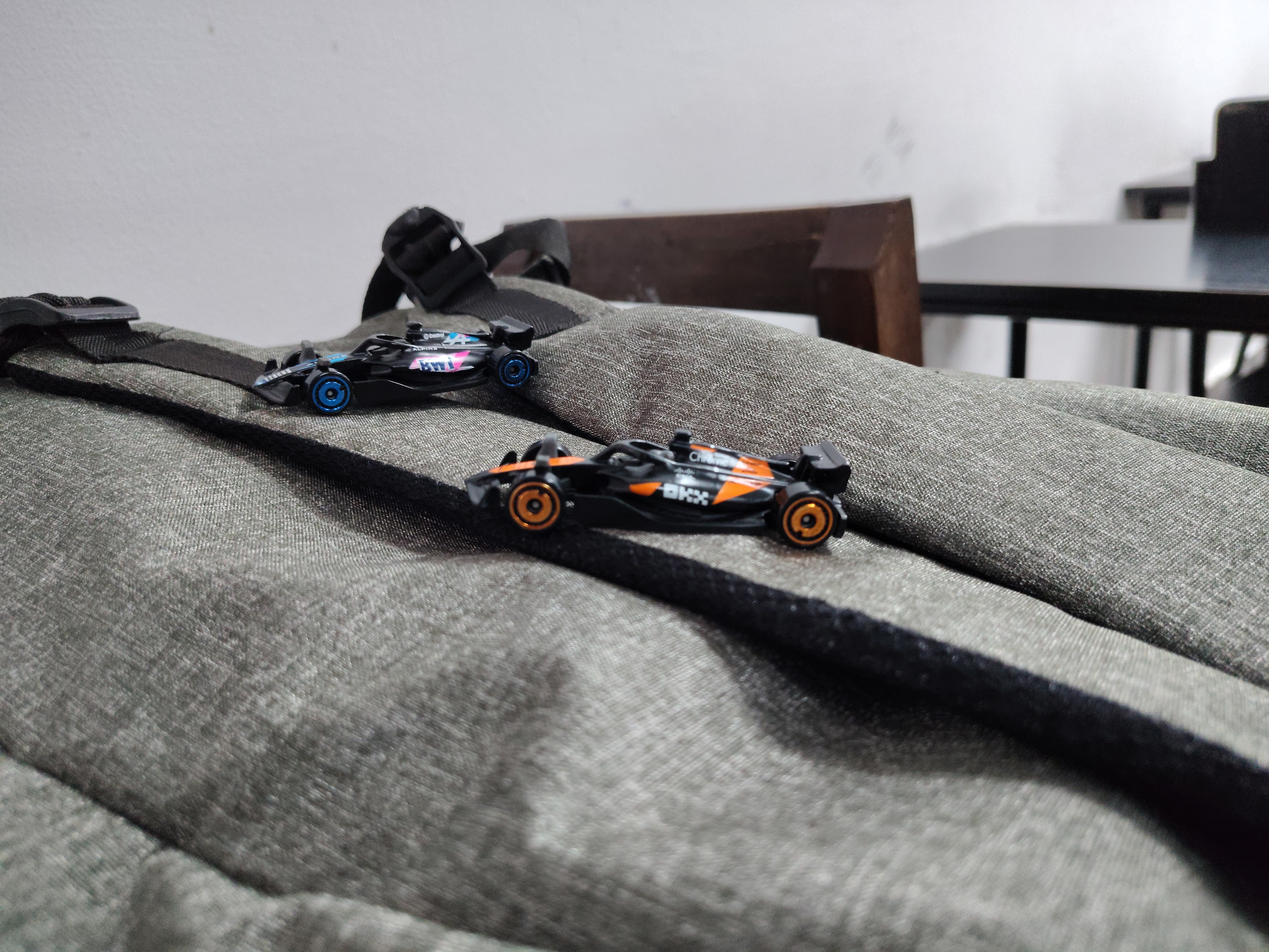Alpine A524: (217, 282, 595, 423)
McLaren MCL40: (420, 420, 888, 566)
